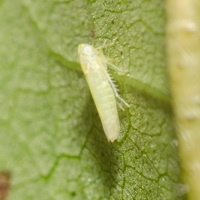insect: (78, 44, 129, 141)
